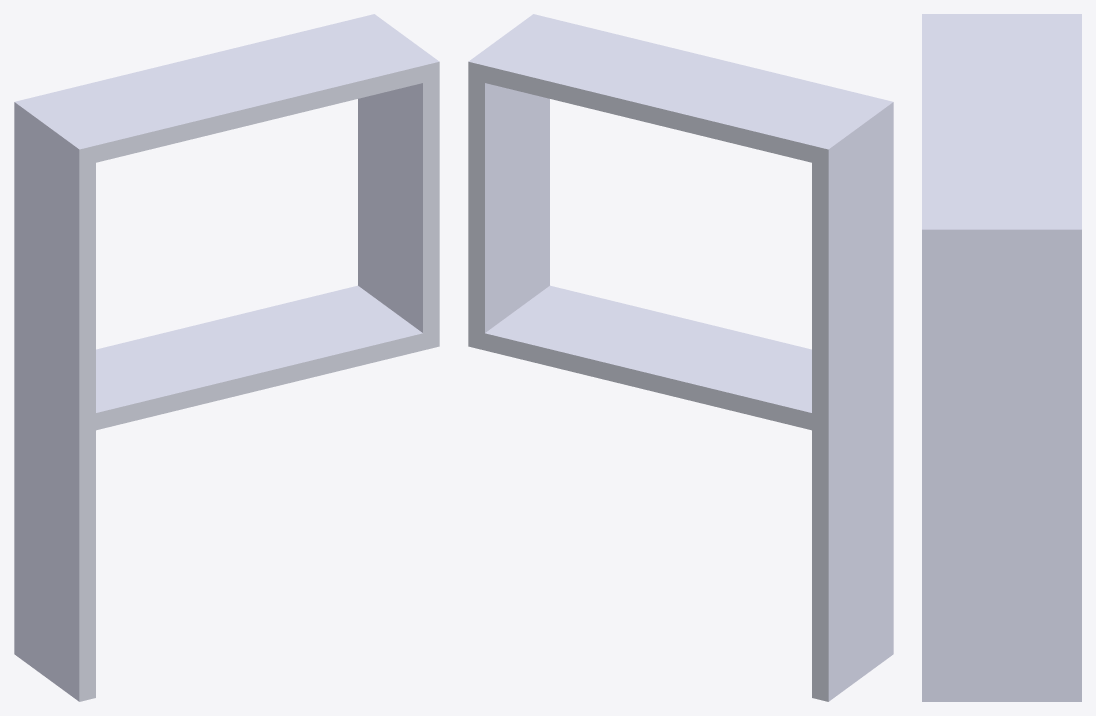
The picture shows the model from 3 angles, left to right: view 1: azimuth 30°, elevation 25°; view 2: azimuth 150°, elevation 25°; view 3: azimuth 270°, elevation 25°; orthographic projection. The views are drawn at different scales.
Parts seen in each view (by area): view 1: p_AlphaProta_Grey; view 2: p_AlphaProta_Grey; view 3: p_AlphaProta_Grey.
Part boxes in pixels (bbox=[...]): p_AlphaProta_Grey: bbox=[14, 14, 439, 701]; p_AlphaProta_Grey: bbox=[468, 14, 893, 701]; p_AlphaProta_Grey: bbox=[922, 14, 1081, 701].
Size of what is drawn, in the model's own units: 0.1436 by 0.2105 by 0.045.
2 materials, 2 textured.
